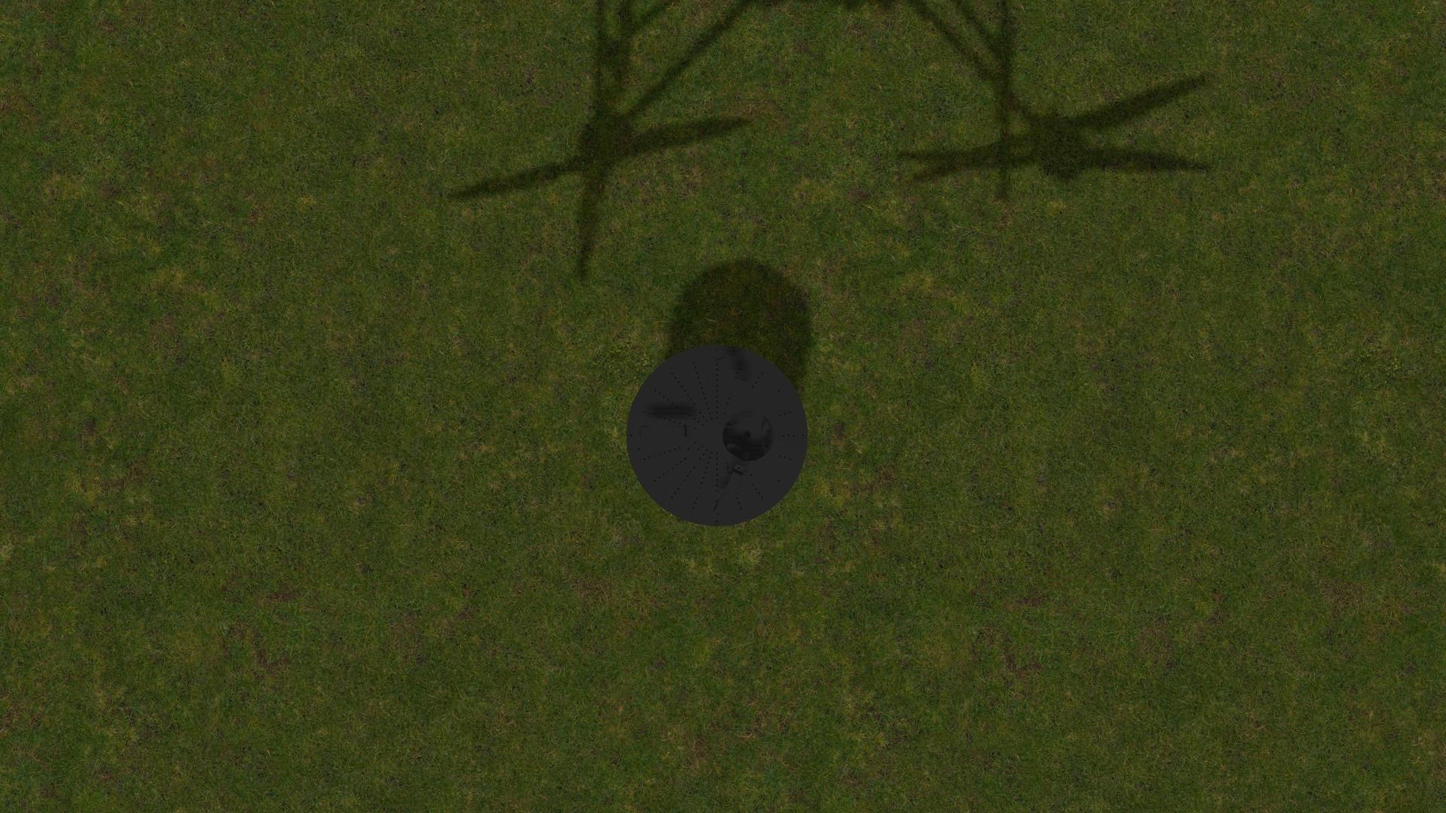alca: (711, 463, 745, 518), (715, 352, 746, 406), (636, 425, 693, 438)
armadilha: (626, 344, 808, 526)
